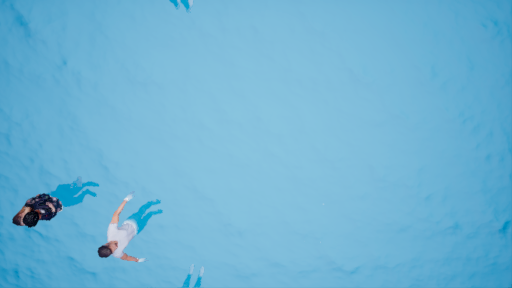person: (102, 184, 164, 266), (10, 174, 93, 226)
